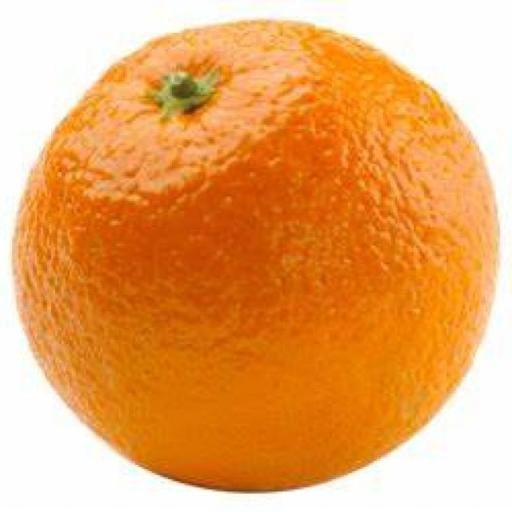fruit: (479, 130, 508, 464)
